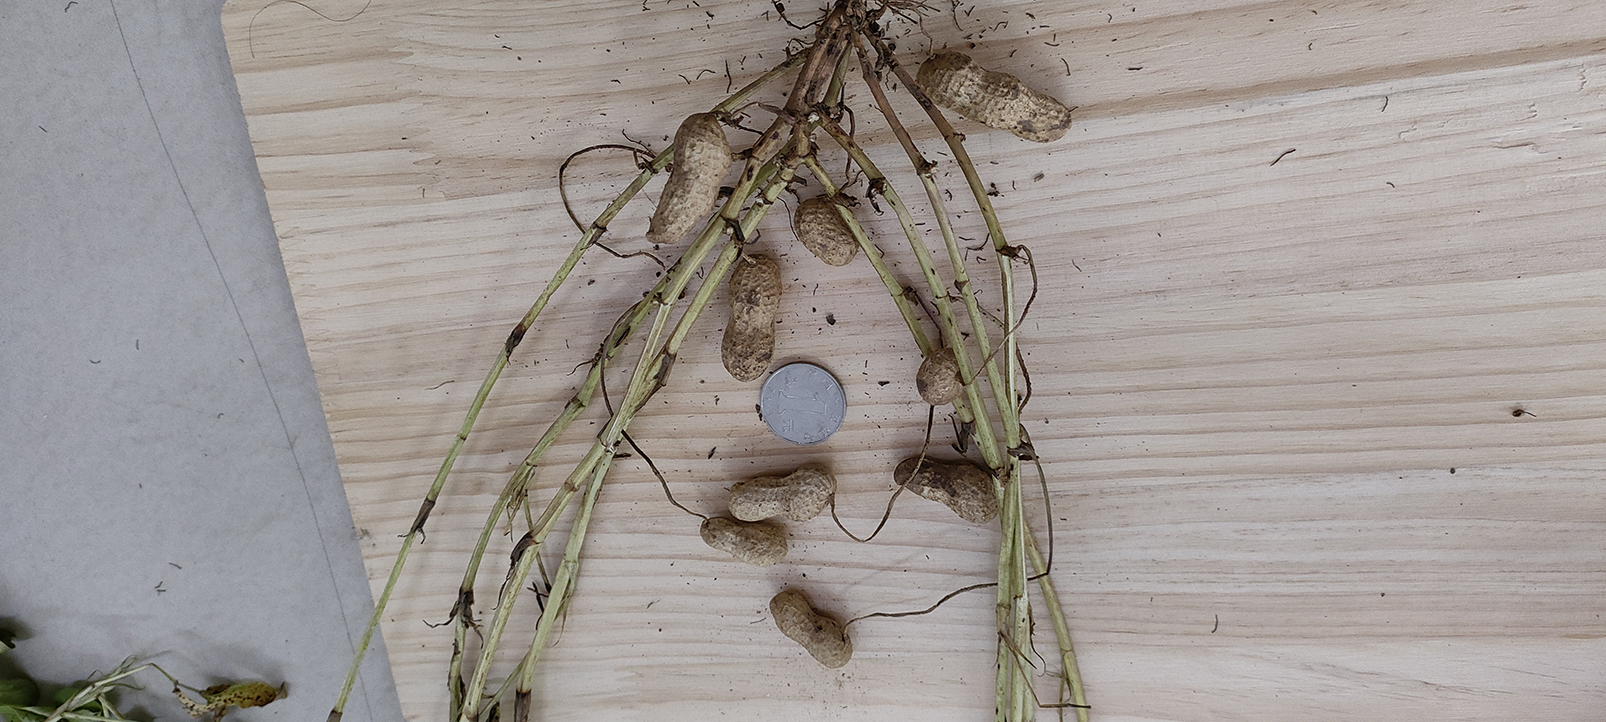h: (917, 53, 1073, 142), (645, 114, 733, 244), (720, 254, 781, 382), (768, 590, 853, 670), (726, 464, 838, 524), (793, 196, 861, 267), (699, 517, 789, 567), (916, 347, 963, 406)
l: (893, 457, 1000, 525)
